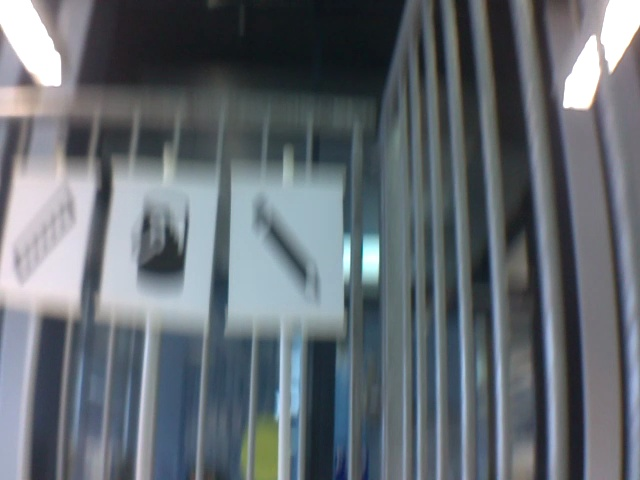bucket: (119, 188, 193, 291)
pencil: (245, 195, 329, 304)
ruler: (9, 185, 77, 288)
